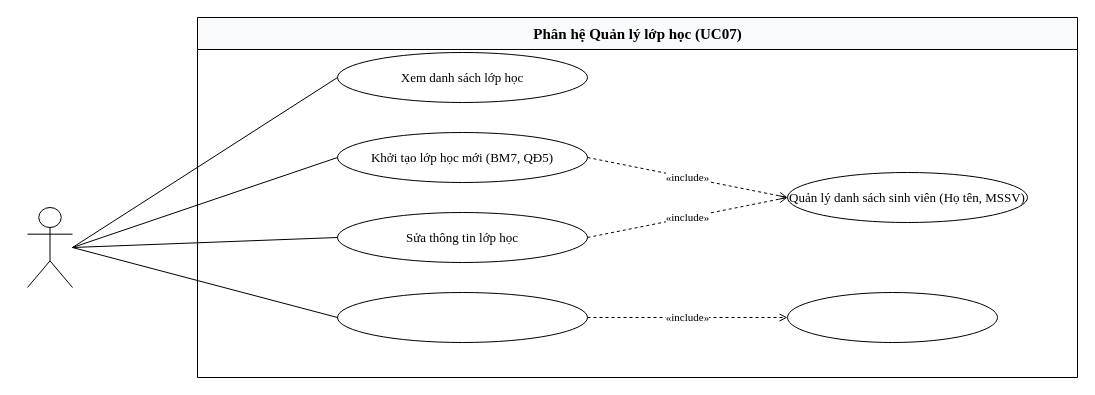
The diagram is 1095 pixels wide and 395 high, and some of its shapes have lost their labels. The shapes that lost their labels are listed below. From the top down, each one's box as (x1, y1, x2, y2) in pixels, then its label:
(26, 206, 72, 288): Giảng viên
(336, 292, 588, 342): Xóa lớp học
(786, 292, 998, 342): Kiểm tra chưa có điểm chấm (QĐ5)
